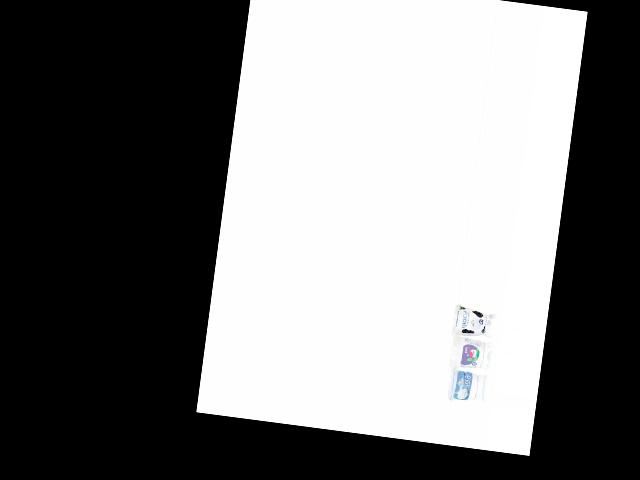cotage: (444, 366, 483, 405)
